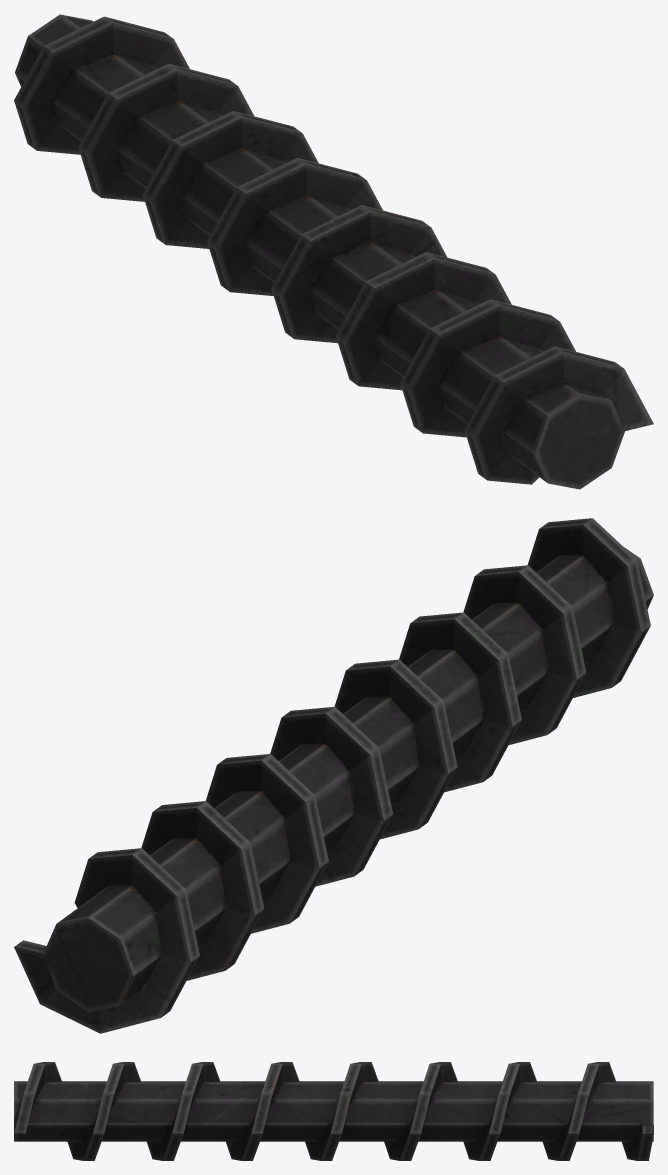
File: SteelThreadedRod_Polished.glb
3 views of the same model, one above another, from view 1: azimuth 30°, elevation 25°; view 2: azimuth 150°, elevation 25°; view 3: azimuth 270°, elevation 25° (orthographic). The views are drawn at different scales.
Visible parts, largest first — view 1: SteelThreadedRod_Polished; view 2: SteelThreadedRod_Polished; view 3: SteelThreadedRod_Polished.
Part boxes in pixels (x1,y1,x2,y2): SteelThreadedRod_Polished: [14, 14, 653, 489]; SteelThreadedRod_Polished: [14, 518, 653, 1033]; SteelThreadedRod_Polished: [14, 1062, 653, 1160].
Size of the model in its own units: 0.133 by 0.133 by 0.8084.
1 material, 1 textured.
